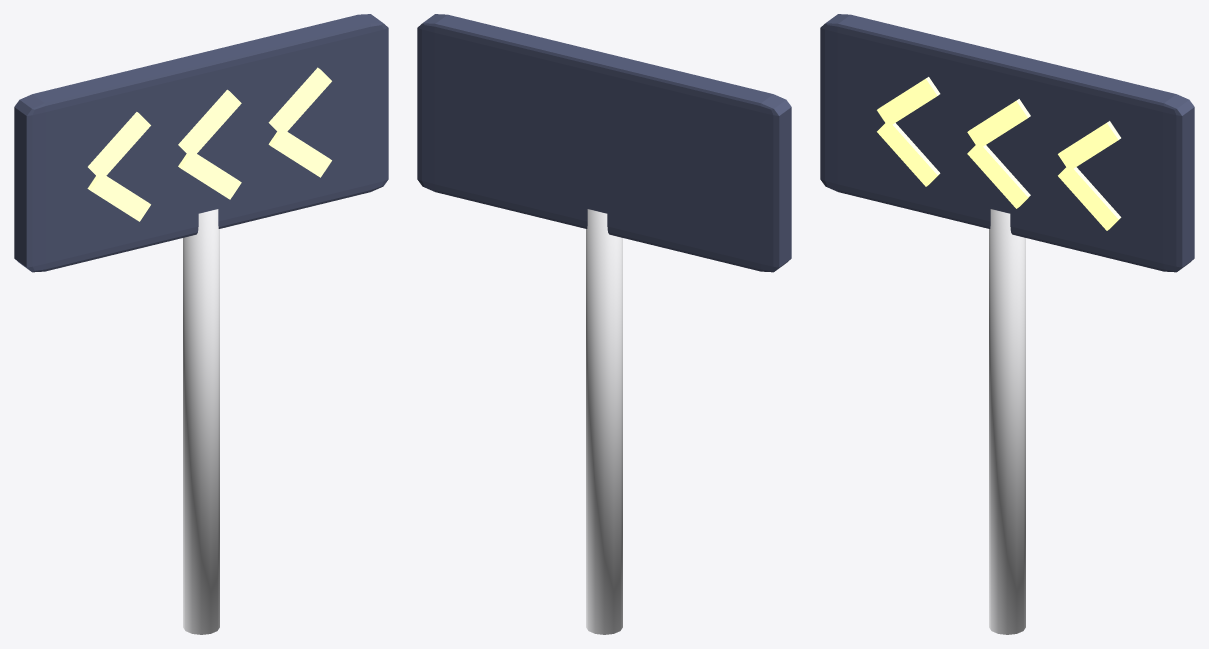
The model's file is T10_Direction_Sign.glb.
The picture shows the model from 3 angles, left to right: view 1: azimuth 30°, elevation 25°; view 2: azimuth 150°, elevation 25°; view 3: azimuth 330°, elevation 25°; orthographic projection.
Visible parts, largest first — view 1: T10_Direction_Sign_Mesh; view 2: T10_Direction_Sign_Mesh; view 3: T10_Direction_Sign_Mesh.
Boxes of the visible parts, left/top/right/bottom form: T10_Direction_Sign_Mesh: left=14, top=14, right=388, bottom=634; T10_Direction_Sign_Mesh: left=417, top=14, right=791, bottom=634; T10_Direction_Sign_Mesh: left=820, top=14, right=1194, bottom=634.
Size of the model in its own units: 1.8 by 2.7 by 0.165.
